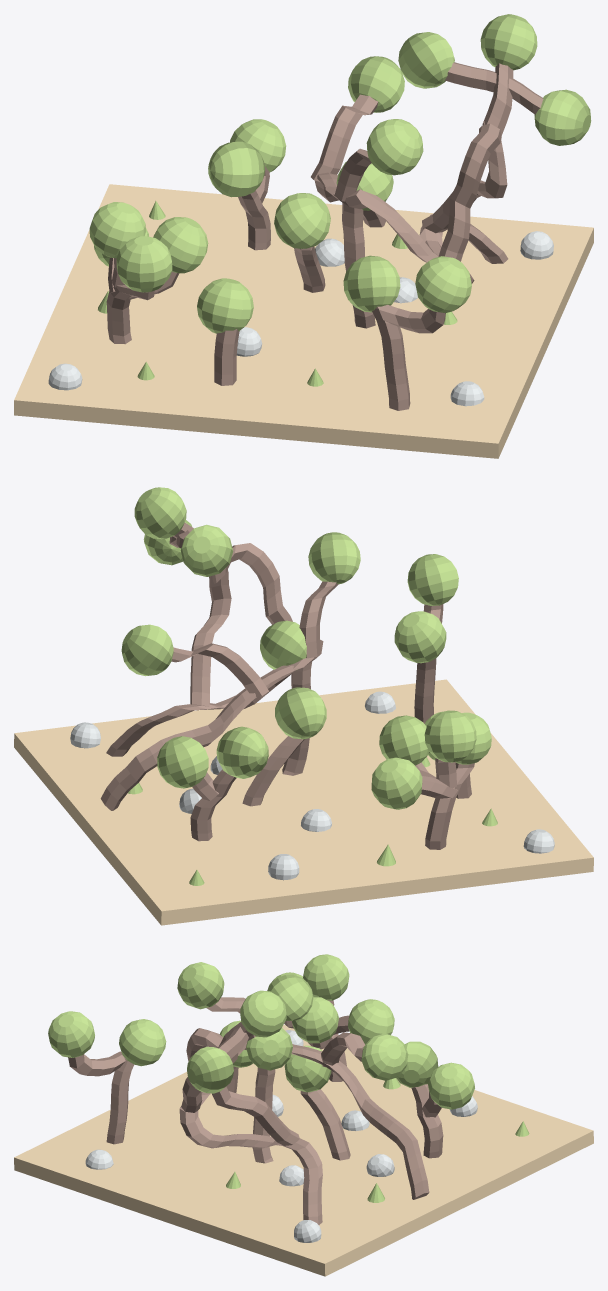
File: bunnyGameWorld.fbx
3 views of the same model, one above another, from view 1: azimuth 30°, elevation 25°; view 2: azimuth 150°, elevation 25°; view 3: azimuth 270°, elevation 25° (orthographic). The views are drawn at different scales.
Parts seen in each view (by area): view 1: mesh1943654038, mesh116774820, mesh914613250, mesh1604298941, mesh1756199650, mesh265216387, mesh1723122045, mesh1417947358, mesh2037345030, mesh1139264423, mesh200780329, mesh1770751419 (+24 smaller); view 2: mesh1943654038, mesh116774820, mesh1263617449, mesh141312798, mesh1771438694, mesh1770751419, mesh1604298941, mesh601837410, mesh2037345030, mesh1756199650, mesh937370925, mesh1417947358 (+19 smaller); view 3: mesh1943654038, mesh116774820, mesh1139264423, mesh2037345030, mesh1417947358, mesh265216387, mesh1771438694, mesh1770751419, mesh601837410, mesh1263617449, mesh141312798, mesh937370925 (+19 smaller).
Boxes of the visible parts, box(x1,y1,x2,y2) form: mesh1943654038: box(14, 184, 593, 458); mesh116774820: box(314, 172, 508, 283); mesh914613250: box(438, 123, 501, 261); mesh1604298941: box(274, 193, 330, 248); mesh1756199650: box(208, 141, 265, 197); mesh265216387: box(415, 256, 471, 313); mesh1723122045: box(116, 236, 172, 292); mesh1417947358: box(366, 119, 423, 175); mesh2037345030: box(343, 255, 400, 312); mesh1139264423: box(534, 89, 591, 145); mesh200780329: box(398, 32, 454, 88); mesh1770751419: box(480, 14, 537, 70); mesh1943654038: box(14, 679, 593, 925); mesh116774820: box(100, 639, 323, 810); mesh1263617449: box(190, 569, 231, 706); mesh141312798: box(424, 710, 476, 762); mesh1771438694: box(121, 624, 173, 676); mesh1770751419: box(134, 487, 186, 539); mesh1604298941: box(275, 687, 326, 739); mesh601837410: box(157, 736, 208, 788); mesh2037345030: box(394, 611, 446, 663); mesh1756199650: box(216, 726, 268, 778); mesh937370925: box(371, 757, 422, 809); mesh1417947358: box(308, 532, 360, 584); mesh1943654038: box(14, 1024, 593, 1276); mesh116774820: box(179, 1041, 429, 1224); mesh1139264423: box(187, 1046, 233, 1093); mesh2037345030: box(119, 1019, 166, 1066); mesh1417947358: box(177, 962, 224, 1009); mesh265216387: box(48, 1011, 94, 1057); mesh1771438694: box(361, 1033, 408, 1080); mesh1770751419: box(240, 990, 286, 1037); mesh601837410: box(428, 1062, 474, 1109); mesh1263617449: box(212, 1059, 299, 1146); mesh141312798: box(303, 954, 349, 1000); mesh937370925: box(348, 999, 394, 1044).
Bounding box in the file's own units: 122 × 56.45 × 122.
